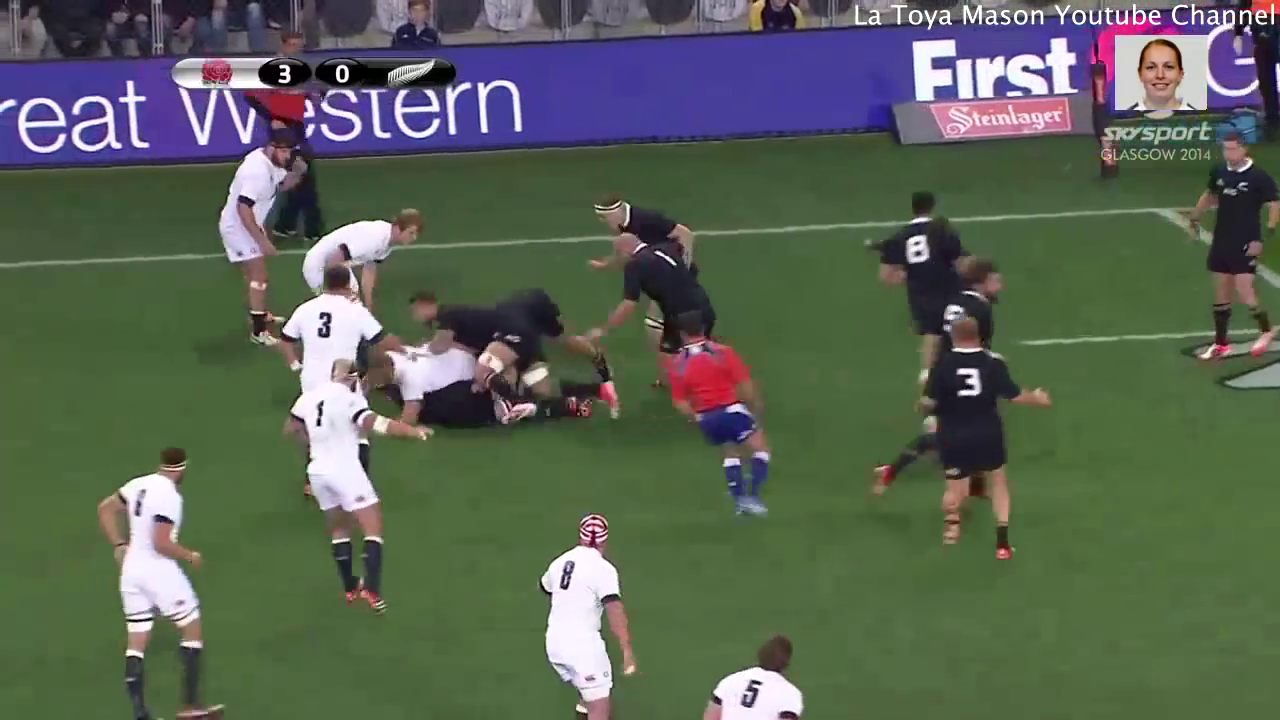player: (87, 432, 226, 720), (274, 356, 415, 626), (904, 318, 1040, 559), (655, 312, 790, 526), (1181, 134, 1280, 363), (531, 506, 636, 720), (402, 289, 579, 405), (216, 126, 298, 361), (267, 261, 389, 394), (592, 223, 731, 339), (298, 199, 428, 296), (915, 252, 1011, 358), (696, 633, 811, 720), (874, 192, 954, 309), (584, 187, 697, 255)
ruck: (310, 269, 643, 436)
